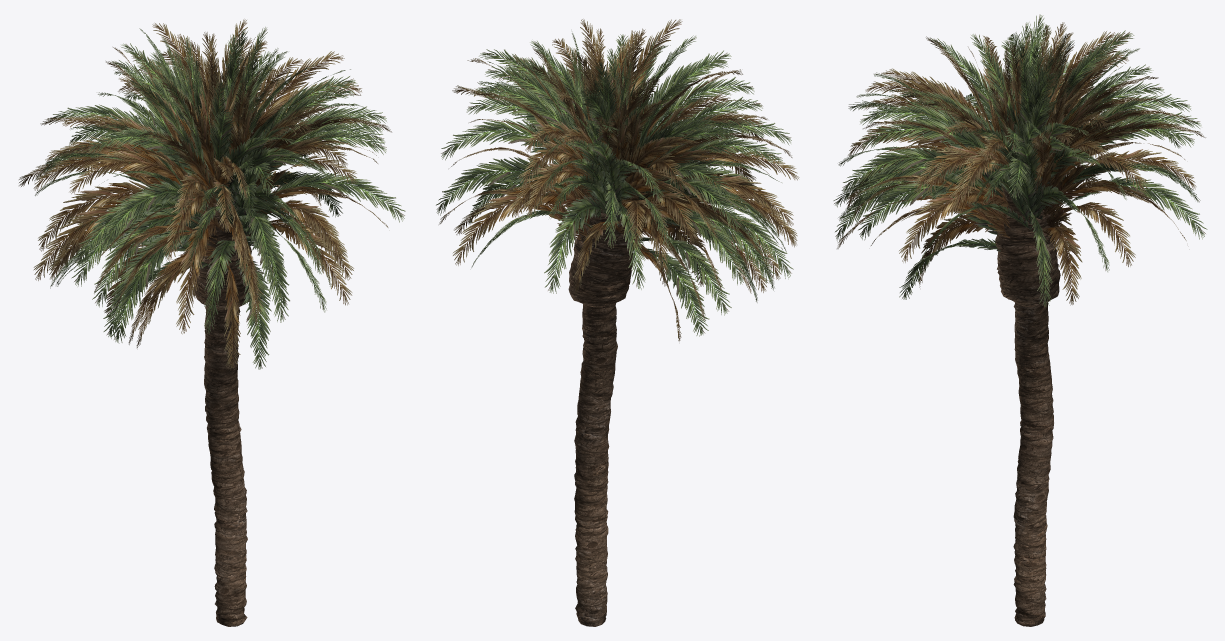
3 renders of one model, left to right at view 1: azimuth 30°, elevation 25°; view 2: azimuth 150°, elevation 25°; view 3: azimuth 270°, elevation 25°, orthographic.
Visible parts, largest first — view 1: SM_pal_b03_tree_africanVegetationPlam_02.mo; view 2: SM_pal_b03_tree_africanVegetationPlam_02.mo; view 3: SM_pal_b03_tree_africanVegetationPlam_02.mo.
Part boxes in pixels (x1,y1,x2,y2): SM_pal_b03_tree_africanVegetationPlam_02.mo: (19, 19, 405, 626); SM_pal_b03_tree_africanVegetationPlam_02.mo: (436, 19, 799, 626); SM_pal_b03_tree_africanVegetationPlam_02.mo: (833, 14, 1207, 626).
Bounding box in the file's own units: 554 × 946 × 549.
